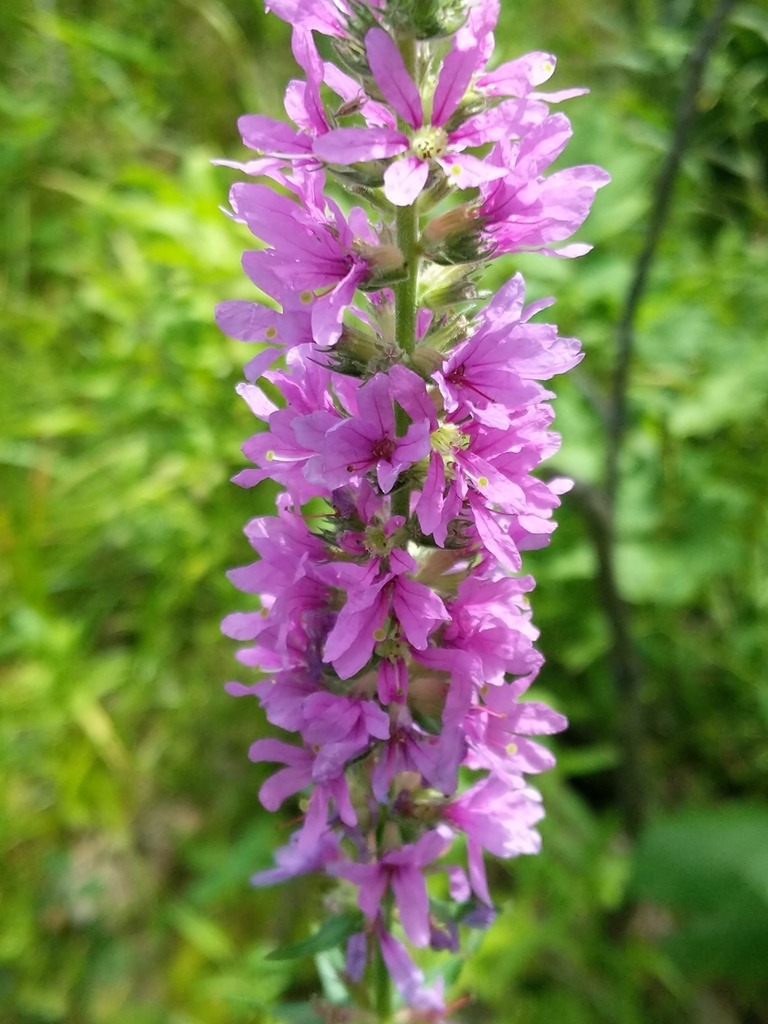purple loosestrife: (210, 2, 611, 1013)
